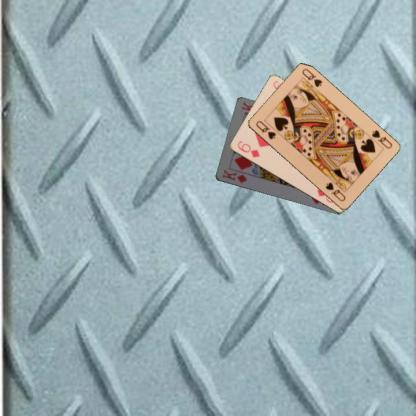6d: (235, 138, 260, 159)
Kd: (219, 166, 249, 184)
Qs: (368, 127, 393, 150), (253, 118, 277, 141)
